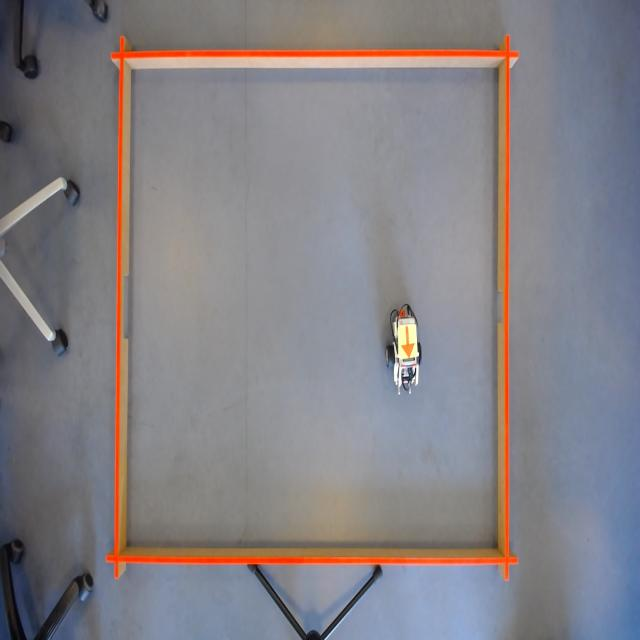robot: (396, 322, 419, 363)
